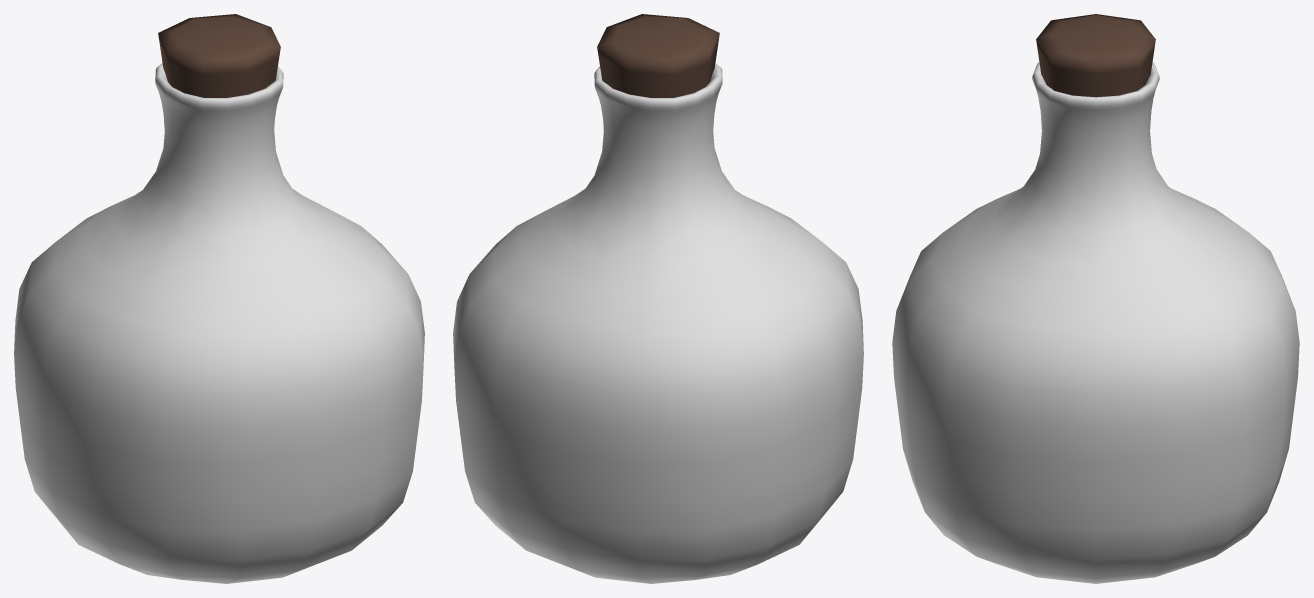
The model's file is potion2_filled.glb.
3 views of the same model, side by side, from view 1: azimuth 30°, elevation 25°; view 2: azimuth 150°, elevation 25°; view 3: azimuth 270°, elevation 25° (orthographic).
Parts seen in each view (by area): view 1: Potion2_Filled; view 2: Potion2_Filled; view 3: Potion2_Filled.
Boxes of the visible parts, <box> form: Potion2_Filled: <box>14,14,424,583</box>; Potion2_Filled: <box>453,14,863,583</box>; Potion2_Filled: <box>892,14,1299,583</box>.
Size of the model in its own units: 0.8768 by 1.22 by 0.8768.
